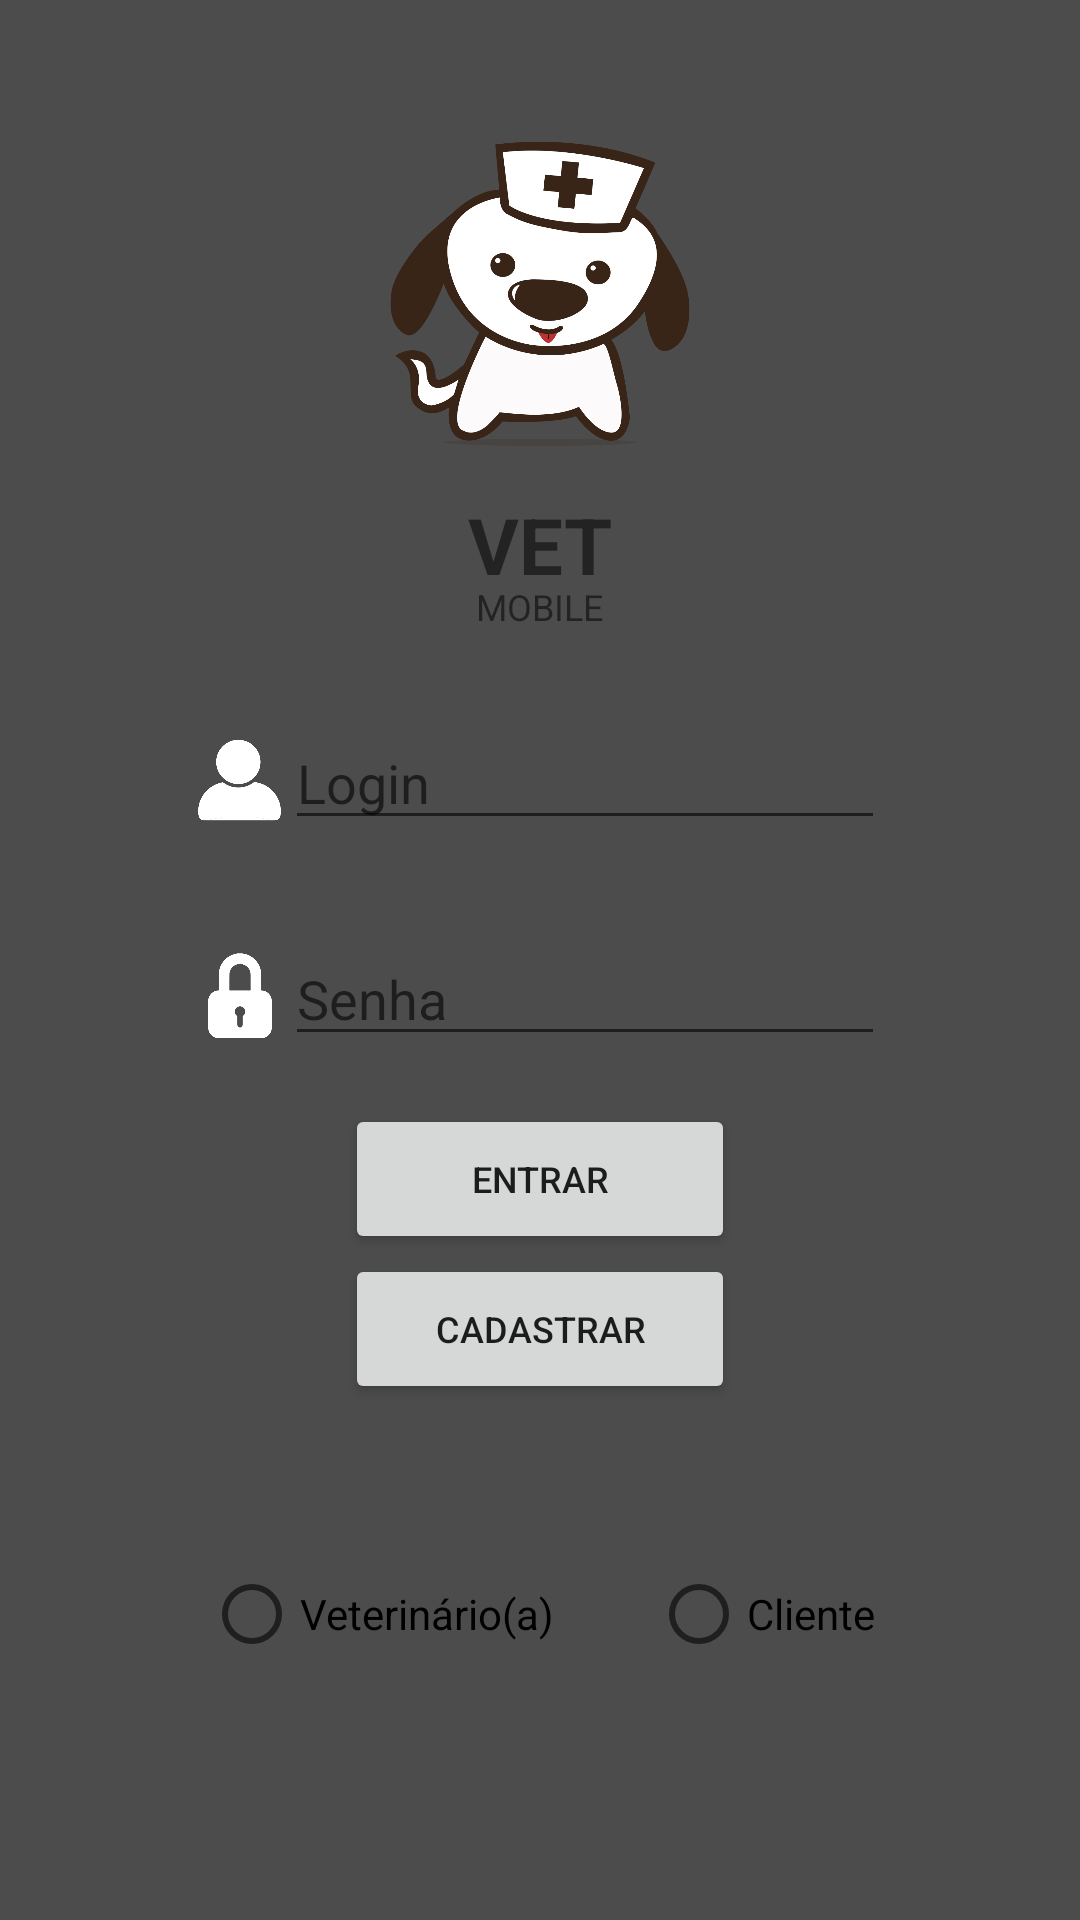

Where icons sit on this 1080px×1920px app screen, as [x1=x1, y1=y1, x2=x2, y2=y2]:
password: [x1=208, y1=953, x2=272, y2=1038]
user: [x1=198, y1=740, x2=281, y2=821]
